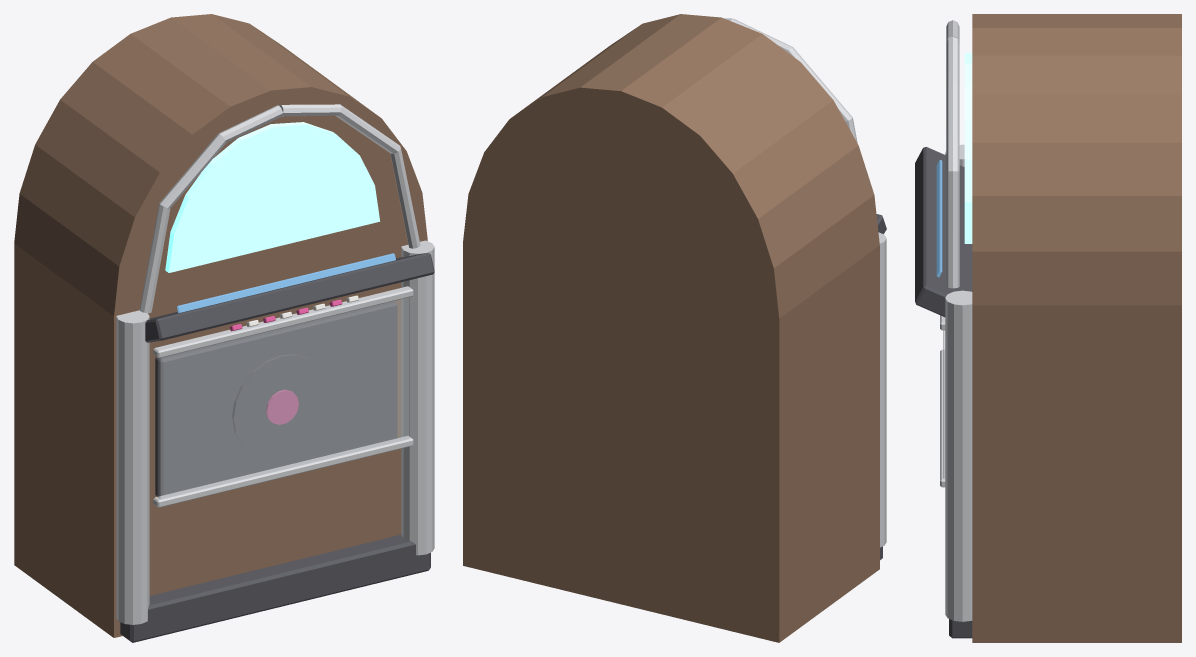
Rendered from bowling-alley-and-pool-hall-jukebox-15ed8fab__33869.glb.
3 views of the same model, side by side, from view 1: azimuth 30°, elevation 25°; view 2: azimuth 150°, elevation 25°; view 3: azimuth 270°, elevation 25° (orthographic). The views are drawn at different scales.
Parts seen in each view (by area): view 1: jukebox, juke-front/glass, juke-front/metal; view 2: jukebox; view 3: jukebox, juke-front/metal, juke-front/glass.
Boxes of the visible parts, left/top/right/bottom form: jukebox: left=14, top=14, right=434, bottom=642; juke-front/glass: left=157, top=297, right=409, bottom=499; juke-front/metal: left=153, top=286, right=413, bottom=507; jukebox: left=463, top=14, right=886, bottom=642; jukebox: left=915, top=14, right=1181, bottom=642; juke-front/metal: left=940, top=315, right=945, bottom=487; juke-front/glass: left=943, top=330, right=945, bottom=478.
Size of the model in its own units: 0.9801 by 1.52 by 0.6875.
